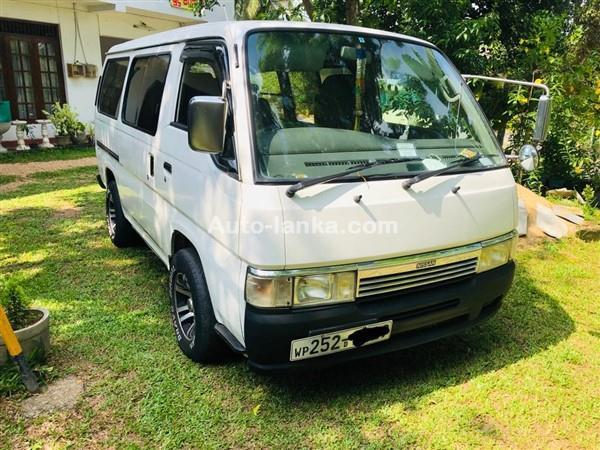car: (91, 19, 529, 383)
